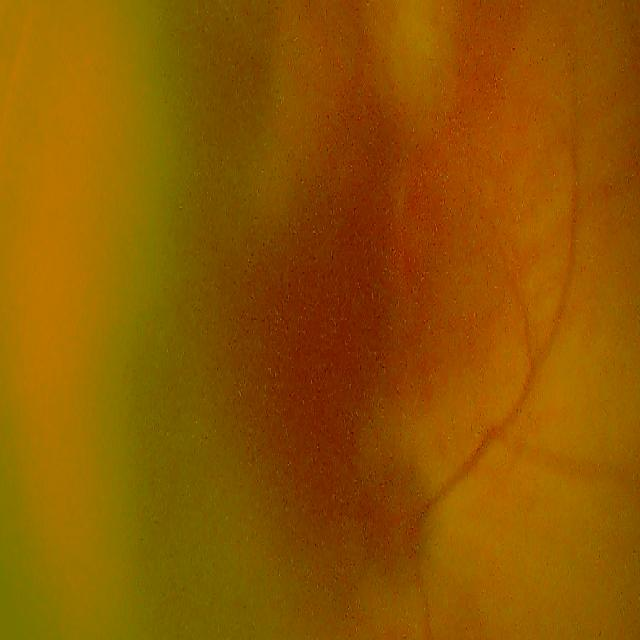optic-nerve: (366, 437, 448, 608)
